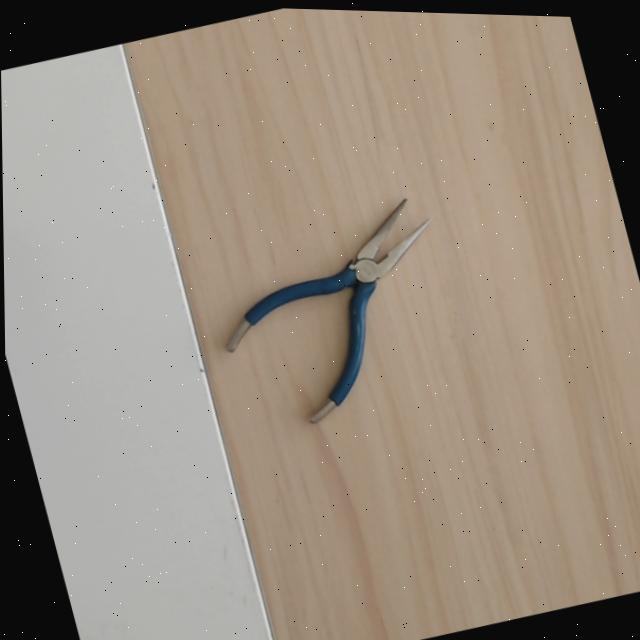Tang-Jepit-Biru: (218, 168, 474, 432)
